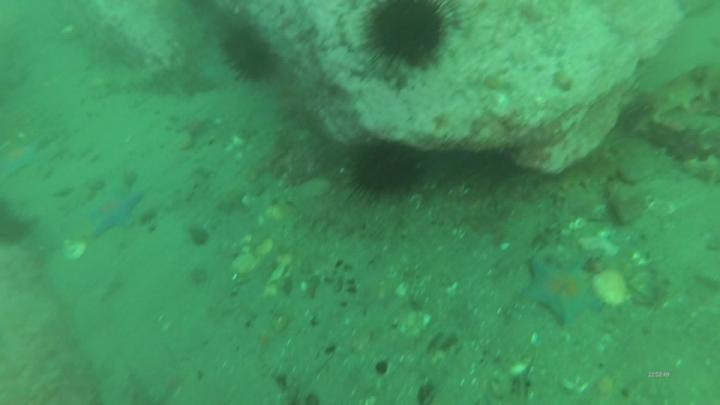echinus: (372, 2, 448, 66), (357, 145, 422, 197), (218, 36, 276, 81)
holothurian: (629, 64, 718, 139), (557, 158, 618, 191)
starfish: (521, 259, 603, 323), (88, 190, 143, 237), (5, 145, 41, 176)
